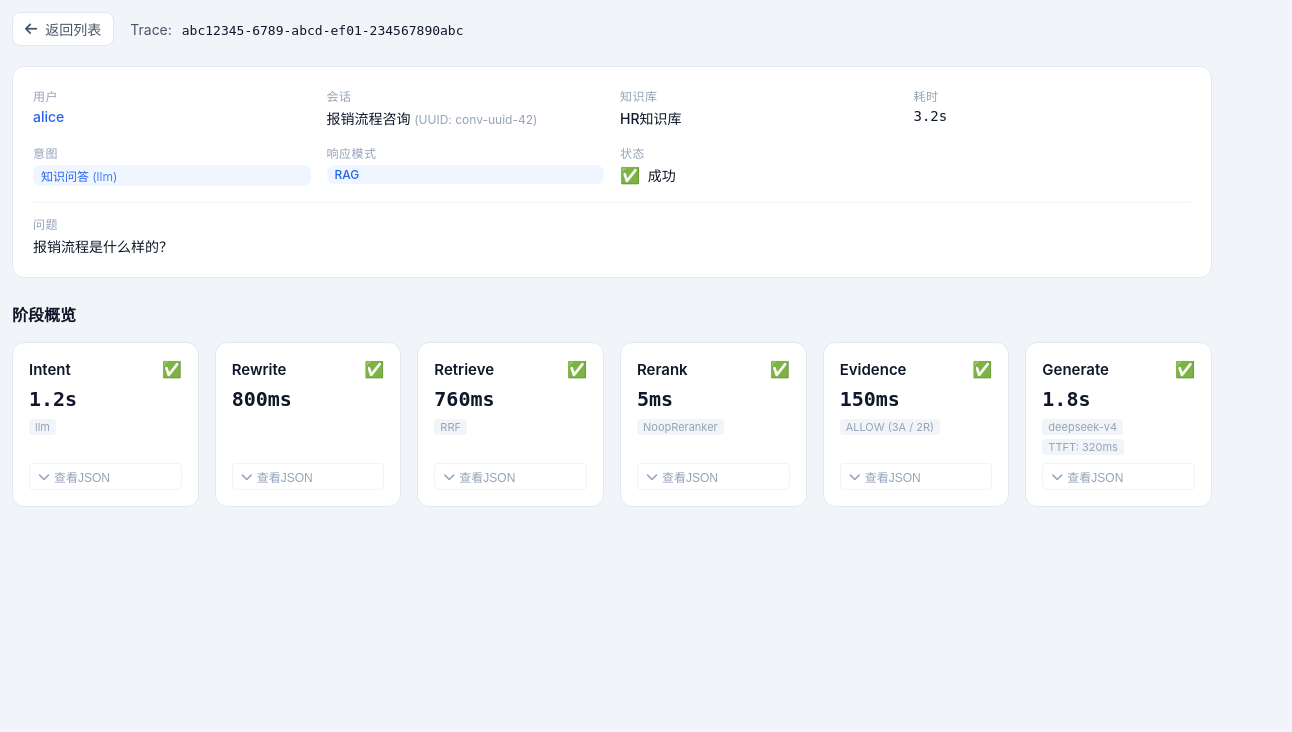
Test: TraceDetail › C9.10 TraceDetail JSON 展开 › 点击「查看JSON」按钮展开对应阶段面板
点击 Intent 的查看JSON
Click the button with class "stage-json-btn" below "1.2s".
click(105, 476)  # box 29,463 -> 182,490
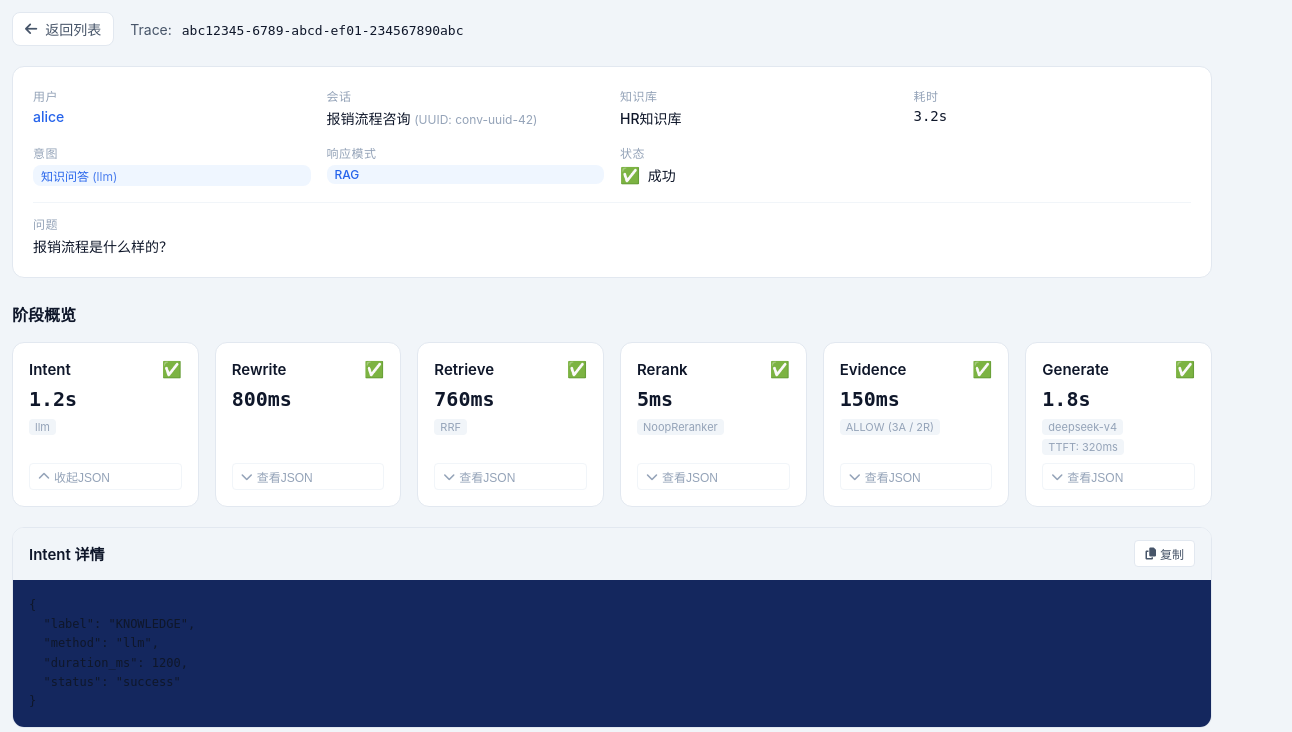
Result: the button with class "stage-json-btn" reads "收起JSON" at 29,463 -> 182,490
